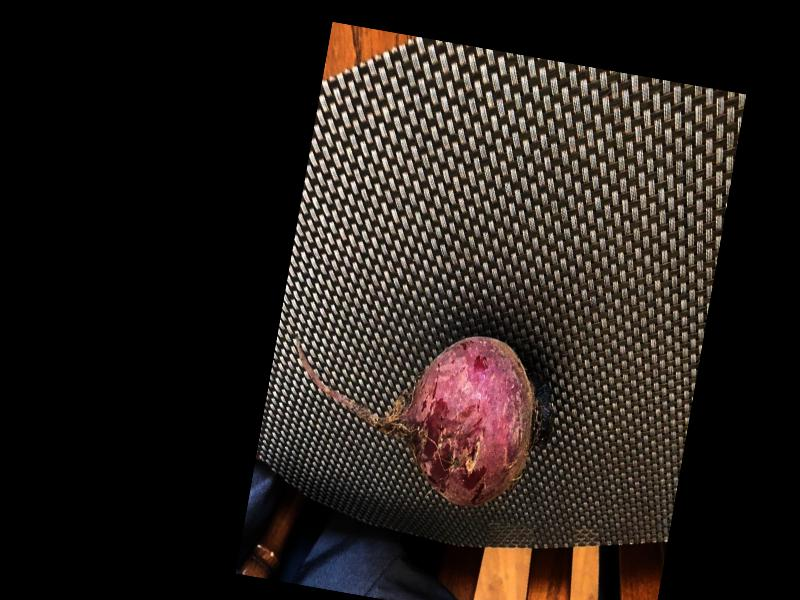Beet: (275, 306, 568, 521)
